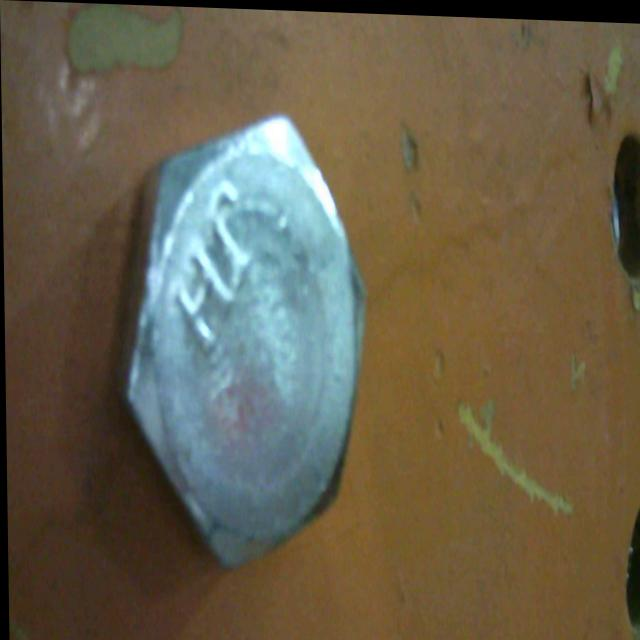Missing bolt: (604, 120, 640, 283), (623, 490, 640, 629)
Regular bolt: (118, 101, 369, 583)
